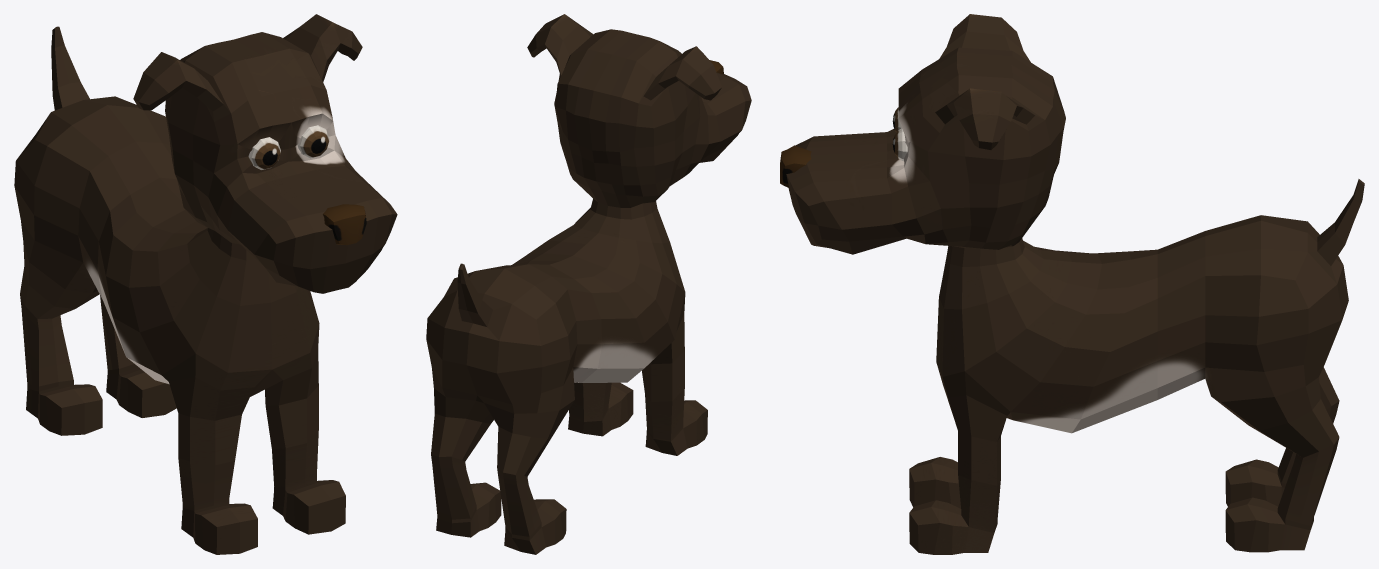
File: dog001.fbx
3 renders of one model, left to right at view 1: azimuth 30°, elevation 25°; view 2: azimuth 150°, elevation 25°; view 3: azimuth 270°, elevation 25°, orthographic. The views are drawn at different scales.
Parts seen in each view (by area): view 1: dog; view 2: dog; view 3: dog.
Boxes of the visible parts, x1=… form: dog: x1=14, y1=14, x2=397, y2=554; dog: x1=426, y1=14, x2=751, y2=554; dog: x1=780, y1=14, x2=1364, y2=554.
Size of the model in its own units: 5.49 by 11.21 by 12.6.
Materials: 1 (1 with a texture image).
